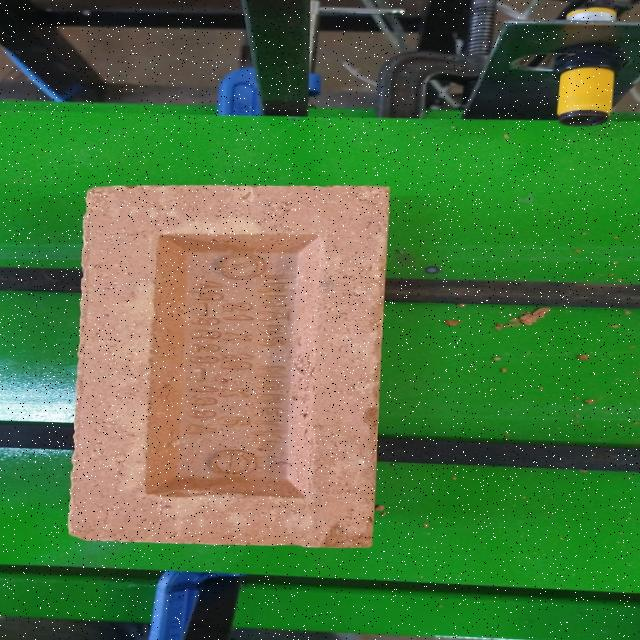bricks: (62, 186, 383, 547)
